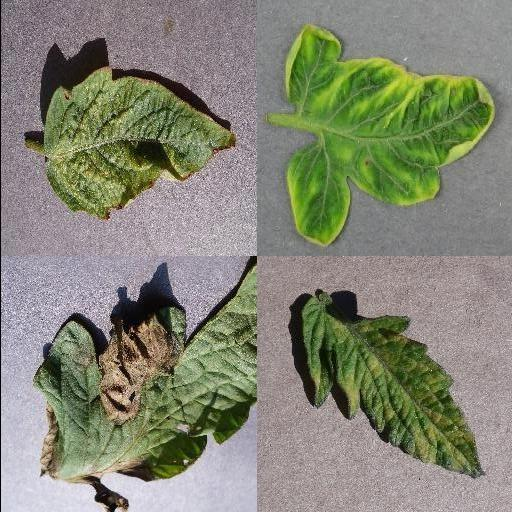Late Blight: (32, 260, 256, 512)
Leaf Mold: (299, 294, 487, 478)
Spider Mites: (45, 68, 239, 222)
Yellow Leaf Curl Virus: (283, 26, 493, 247)
